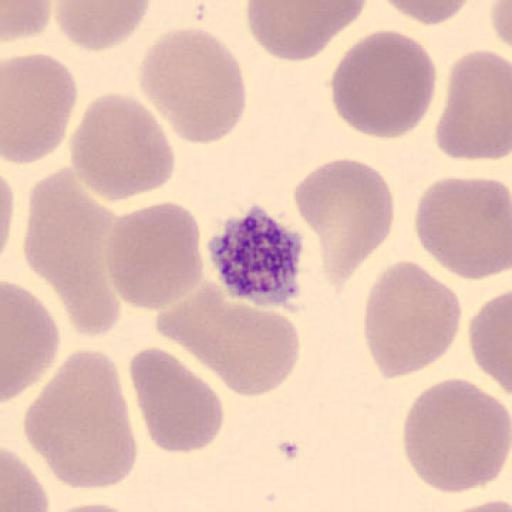Platelet: (205, 204, 307, 308)
RBC: (152, 280, 302, 400), (22, 166, 122, 335), (23, 349, 136, 493), (292, 156, 396, 286), (400, 377, 512, 495), (137, 26, 247, 146), (362, 258, 464, 381), (330, 28, 438, 140), (188, 291, 302, 397), (69, 92, 177, 202), (102, 200, 204, 311), (414, 174, 512, 282), (129, 346, 225, 454), (2, 52, 78, 166), (435, 50, 512, 162), (245, 0, 368, 63), (1, 281, 60, 403), (54, 0, 152, 52), (469, 287, 512, 398), (2, 445, 50, 512), (378, 0, 474, 27), (2, 0, 53, 42), (439, 496, 512, 512), (1, 173, 15, 256), (489, 0, 512, 49), (47, 502, 145, 512), (442, 500, 511, 512)
